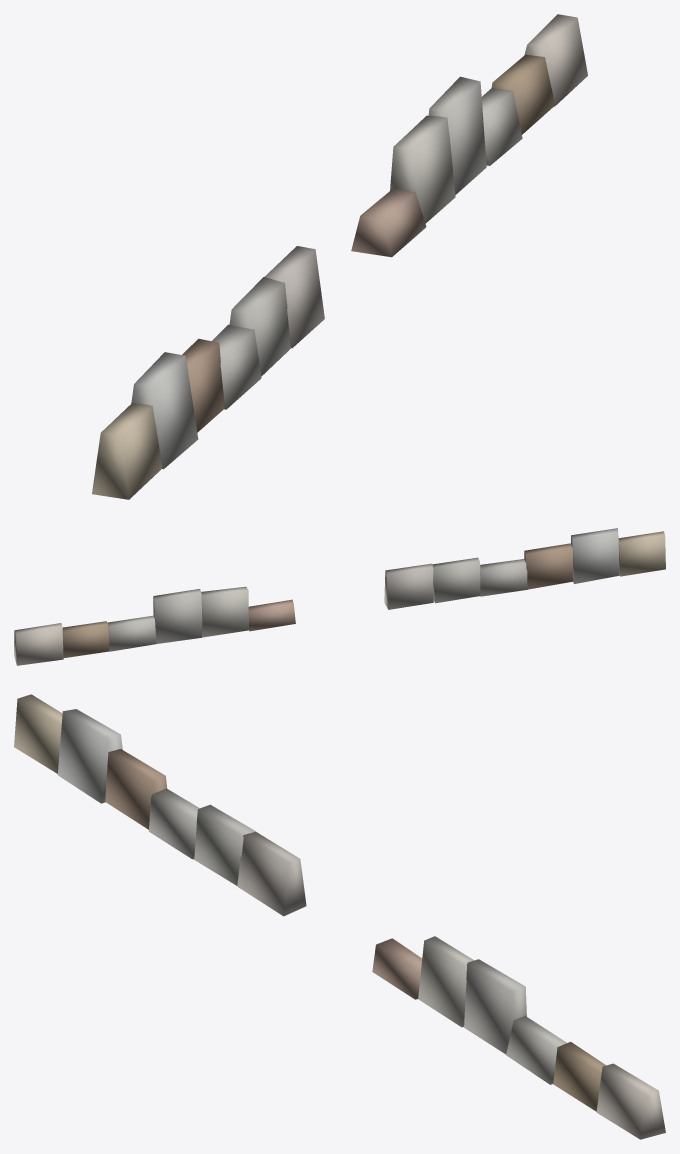
The model's file is farm_-28_-27_far.glb.
3 renders of one model, top to bottom at view 1: azimuth 30°, elevation 25°; view 2: azimuth 150°, elevation 25°; view 3: azimuth 270°, elevation 25°, orthographic. The views are drawn at different scales.
Visible parts, largest first — view 1: geometry_0; view 2: geometry_0; view 3: geometry_0.
Boxes of the visible parts, x1,y1,x2,y2 form: geometry_0: (92,14,587,499); geometry_0: (14,528,665,665); geometry_0: (14,694,665,1139).
Size of the model in its own units: 17.06 by 3.17 by 14.32.
